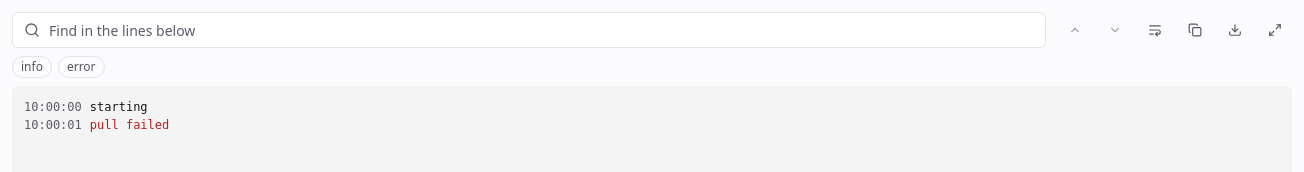
Test: LogPane severity filter › narrows the pane to the selected severity
The image size is (1304, 172).
What coordinates should you click on to do the following:
click the button "error"
I would click on:
 (81, 67)
Its box is [58, 56, 105, 78].
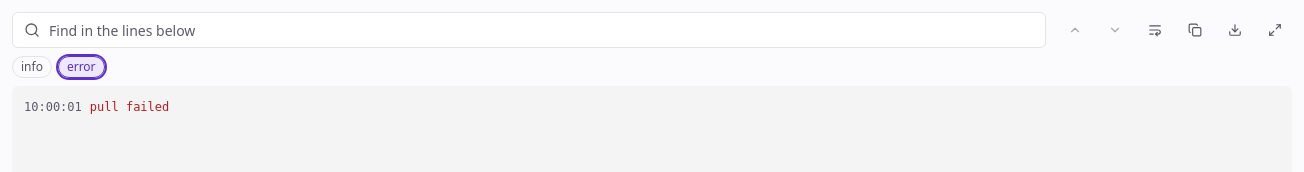
Expected: the text "pull failed" is shown, [90, 100, 169, 114]
Expected: the text "starting" is gone
